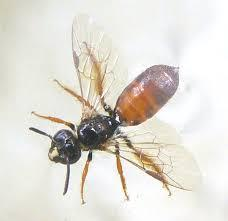Allodapula: (21, 11, 204, 215)
